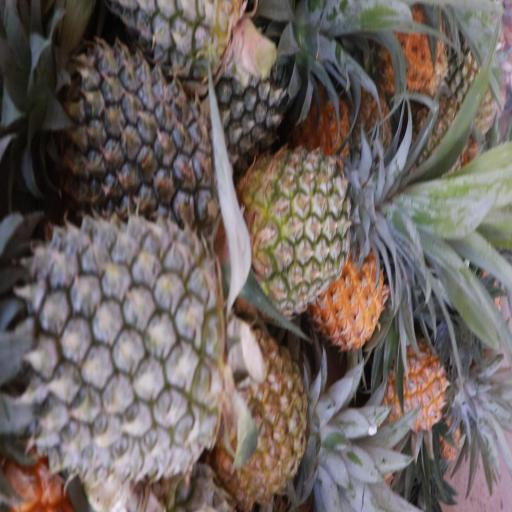------------------------------: (238, 149, 357, 309), (219, 333, 309, 490)
Pineapple - v8 v1: (318, 240, 387, 352), (382, 342, 451, 424)
